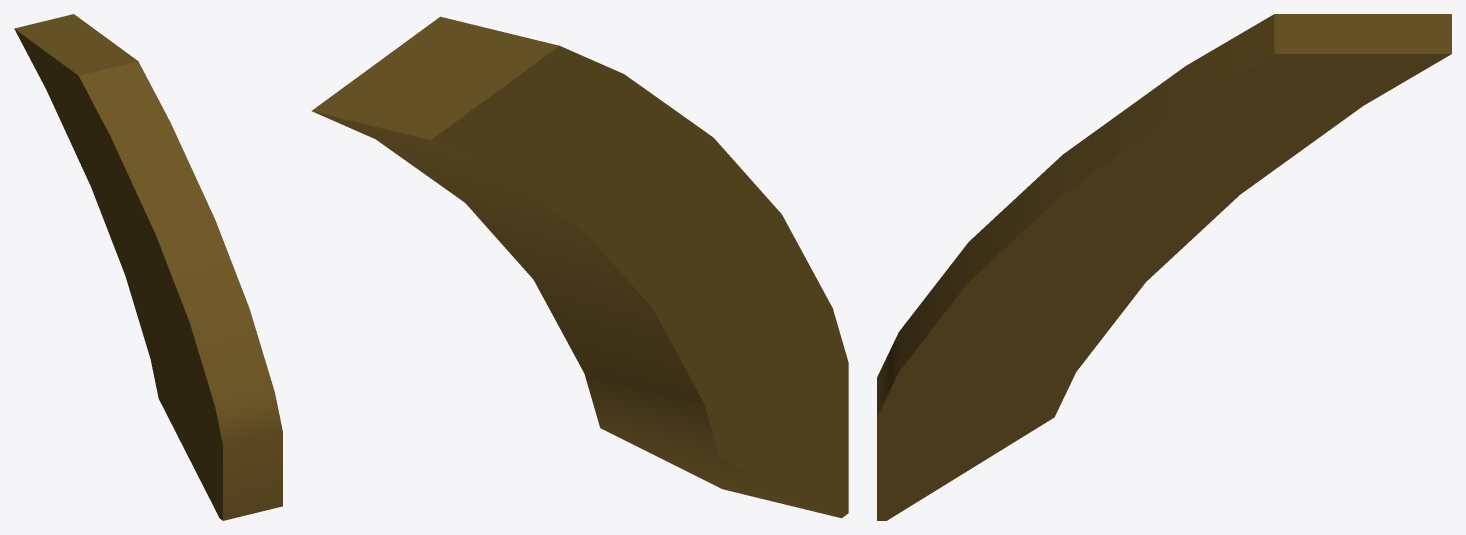
File: WoodArch.fbx
The picture shows the model from 3 angles, left to right: view 1: azimuth 30°, elevation 25°; view 2: azimuth 150°, elevation 25°; view 3: azimuth 270°, elevation 25°; orthographic projection. The views are drawn at different scales.
Parts seen in each view (by area): view 1: pCube157; view 2: pCube157; view 3: pCube157.
Boxes of the visible parts, bbox=[...] form: pCube157: bbox=[14, 14, 282, 520]; pCube157: bbox=[312, 16, 848, 518]; pCube157: bbox=[877, 14, 1451, 520].
Size of the model in its own units: 0.1509 by 0.8195 by 0.9144.
